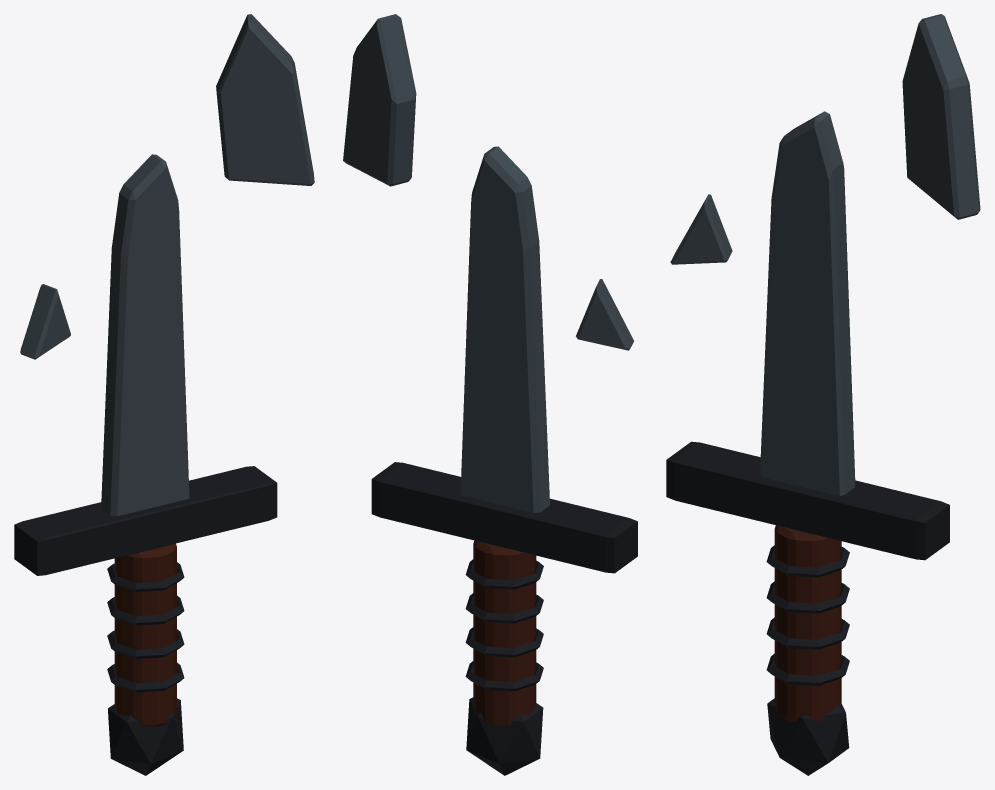
The model's file is shattered_blade.obj.
3 views of the same model, side by side, from view 1: azimuth 30°, elevation 25°; view 2: azimuth 150°, elevation 25°; view 3: azimuth 330°, elevation 25° (orthographic). The views are drawn at different scales.
Parts seen in each view (by area): view 1: ShatteredBlade_Blade.001_MAT_Iron, ShatteredBlade_Guard.001_MAT_DarkIron, ShatteredBlade_TipFragment.001_MAT_Iron, ShatteredBlade_Grip.001_MAT_Leather, ShatteredBlade_Pommel.001_MAT_DarkIron, ShatteredBlade_Chip.001_MAT_Iron, ShatteredBlade_GripBand0.001_MAT_DarkIron, ShatteredBlade_GripBand2.001_MAT_DarkIron, ShatteredBlade_GripBand1.001_MAT_DarkIron, ShatteredBlade_GripBand3.001_MAT_DarkIron; view 2: ShatteredBlade_Blade.001_MAT_Iron, ShatteredBlade_Guard.001_MAT_DarkIron, ShatteredBlade_TipFragment.001_MAT_Iron, ShatteredBlade_Grip.001_MAT_Leather, ShatteredBlade_Pommel.001_MAT_DarkIron, ShatteredBlade_Chip.001_MAT_Iron, ShatteredBlade_GripBand1.001_MAT_DarkIron, ShatteredBlade_GripBand0.001_MAT_DarkIron, ShatteredBlade_GripBand2.001_MAT_DarkIron, ShatteredBlade_GripBand3.001_MAT_DarkIron; view 3: ShatteredBlade_Blade.001_MAT_Iron, ShatteredBlade_Guard.001_MAT_DarkIron, ShatteredBlade_TipFragment.001_MAT_Iron, ShatteredBlade_Grip.001_MAT_Leather, ShatteredBlade_Pommel.001_MAT_DarkIron, ShatteredBlade_Chip.001_MAT_Iron, ShatteredBlade_GripBand3.001_MAT_DarkIron, ShatteredBlade_GripBand2.001_MAT_DarkIron, ShatteredBlade_GripBand0.001_MAT_DarkIron, ShatteredBlade_GripBand1.001_MAT_DarkIron.
Boxes of the visible parts, x1=… form: ShatteredBlade_Blade.001_MAT_Iron: x1=101, y1=154, x2=189, y2=516; ShatteredBlade_Guard.001_MAT_DarkIron: x1=14, y1=466, x2=277, y2=575; ShatteredBlade_TipFragment.001_MAT_Iron: x1=216, y1=14, x2=314, y2=185; ShatteredBlade_Grip.001_MAT_Leather: x1=114, y1=543, x2=176, y2=726; ShatteredBlade_Pommel.001_MAT_DarkIron: x1=108, y1=698, x2=183, y2=775; ShatteredBlade_Chip.001_MAT_Iron: x1=20, y1=284, x2=70, y2=359; ShatteredBlade_GripBand0.001_MAT_DarkIron: x1=107, y1=562, x2=184, y2=591; ShatteredBlade_GripBand2.001_MAT_DarkIron: x1=107, y1=629, x2=184, y2=658; ShatteredBlade_GripBand1.001_MAT_DarkIron: x1=107, y1=595, x2=184, y2=625; ShatteredBlade_GripBand3.001_MAT_DarkIron: x1=107, y1=662, x2=184, y2=692; ShatteredBlade_Blade.001_MAT_Iron: x1=460, y1=146, x2=549, y2=512; ShatteredBlade_Guard.001_MAT_DarkIron: x1=371, y1=462, x2=637, y2=573; ShatteredBlade_TipFragment.001_MAT_Iron: x1=343, y1=14, x2=416, y2=186; ShatteredBlade_Grip.001_MAT_Leather: x1=473, y1=540, x2=536, y2=725; ShatteredBlade_Pommel.001_MAT_DarkIron: x1=466, y1=697, x2=543, y2=775; ShatteredBlade_Chip.001_MAT_Iron: x1=576, y1=279, x2=633, y2=350; ShatteredBlade_GripBand1.001_MAT_DarkIron: x1=465, y1=593, x2=543, y2=623; ShatteredBlade_GripBand0.001_MAT_DarkIron: x1=465, y1=559, x2=543, y2=589; ShatteredBlade_GripBand2.001_MAT_DarkIron: x1=465, y1=627, x2=543, y2=657; ShatteredBlade_GripBand3.001_MAT_DarkIron: x1=465, y1=661, x2=543, y2=691; ShatteredBlade_Blade.001_MAT_Iron: x1=760, y1=111, x2=855, y2=495; ShatteredBlade_Guard.001_MAT_DarkIron: x1=666, y1=441, x2=949, y2=560; ShatteredBlade_TipFragment.001_MAT_Iron: x1=902, y1=14, x2=980, y2=219; ShatteredBlade_Grip.001_MAT_Leather: x1=774, y1=525, x2=841, y2=721; ShatteredBlade_Pommel.001_MAT_DarkIron: x1=767, y1=698, x2=849, y2=775; ShatteredBlade_Chip.001_MAT_Iron: x1=670, y1=194, x2=732, y2=264; ShatteredBlade_GripBand3.001_MAT_DarkIron: x1=766, y1=653, x2=849, y2=685; ShatteredBlade_GripBand2.001_MAT_DarkIron: x1=766, y1=617, x2=849, y2=649; ShatteredBlade_GripBand0.001_MAT_DarkIron: x1=766, y1=545, x2=849, y2=577; ShatteredBlade_GripBand1.001_MAT_DarkIron: x1=766, y1=581, x2=849, y2=613.
Size of the model in its own units: 1.62 by 3.9 by 0.39.
